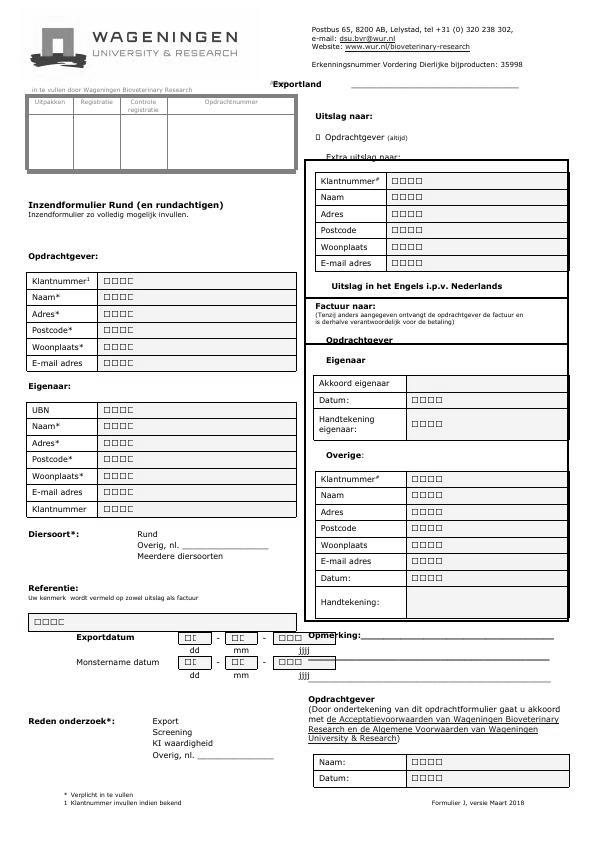input: (306, 630, 560, 685)
table: (304, 158, 572, 624), (25, 399, 298, 521), (22, 268, 300, 376), (24, 89, 297, 177), (306, 750, 576, 790)
text: (306, 693, 567, 744), (69, 633, 306, 678), (307, 23, 532, 69), (145, 712, 276, 764), (25, 195, 227, 226), (132, 524, 270, 564), (60, 788, 184, 809), (322, 129, 411, 147), (25, 714, 116, 728), (431, 798, 530, 810), (313, 106, 374, 122), (28, 249, 100, 261), (21, 580, 79, 594), (25, 528, 84, 541), (25, 380, 76, 393)
